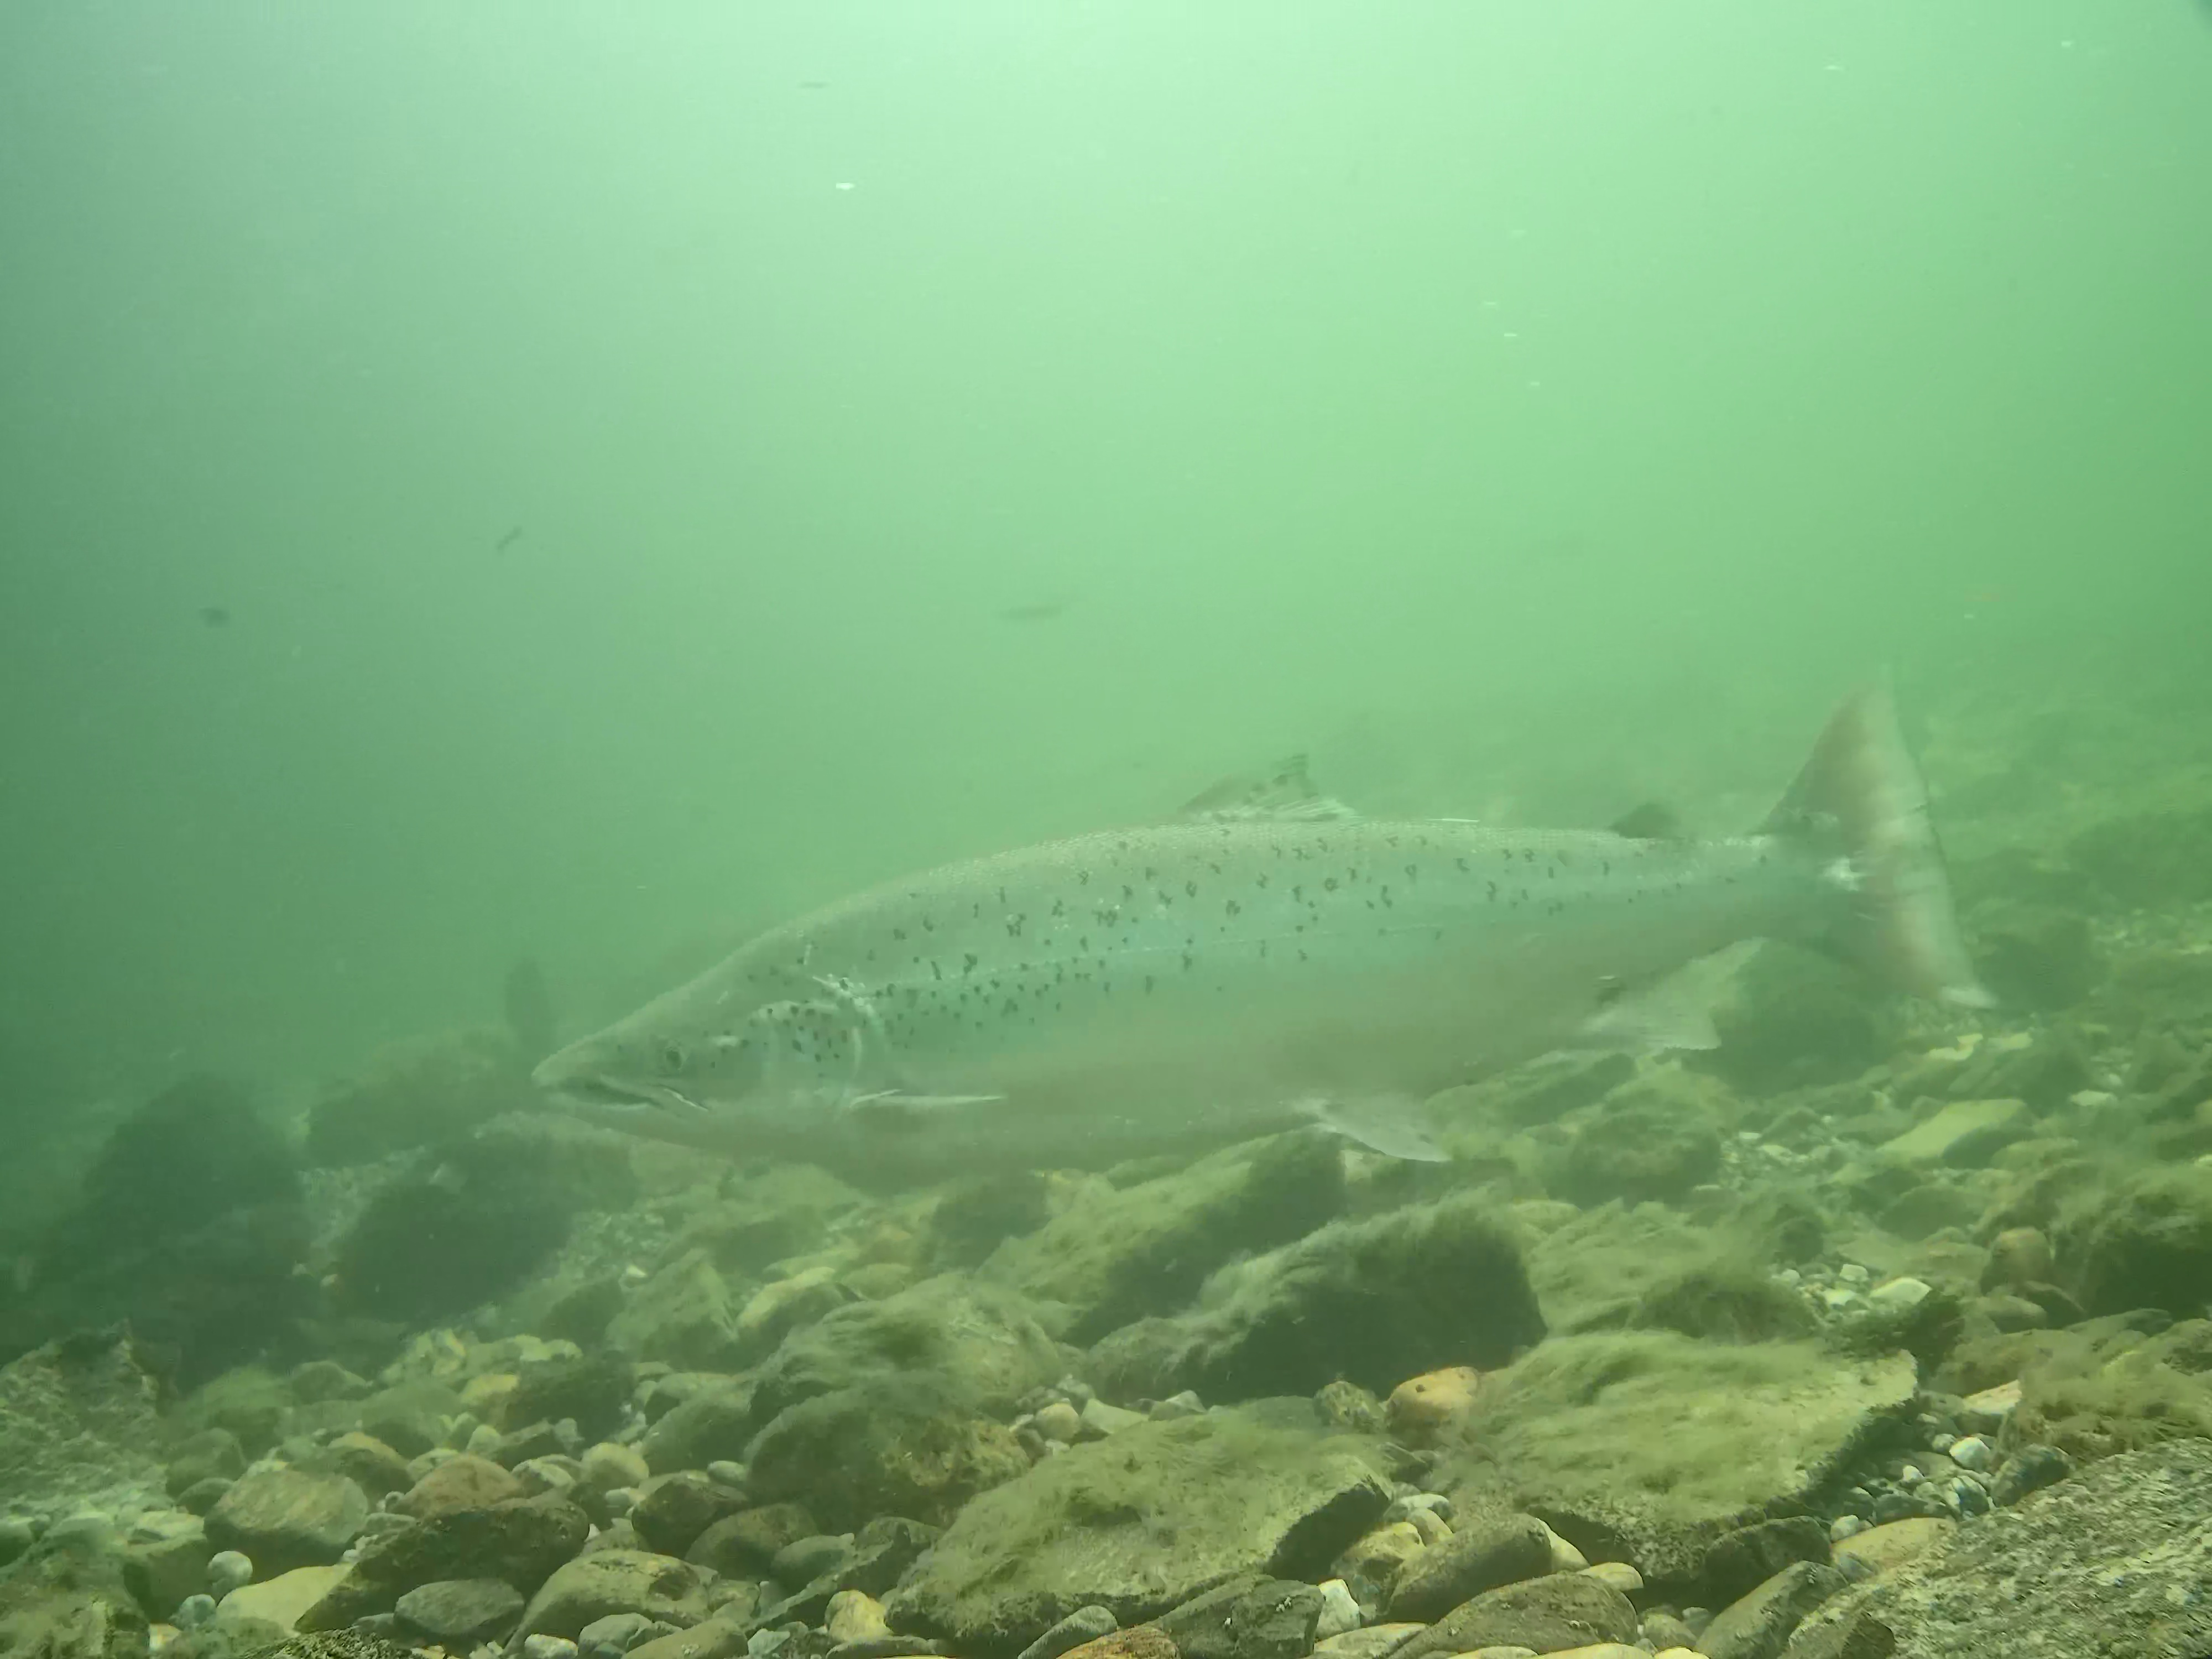salmon: (526, 659, 2008, 1180)
